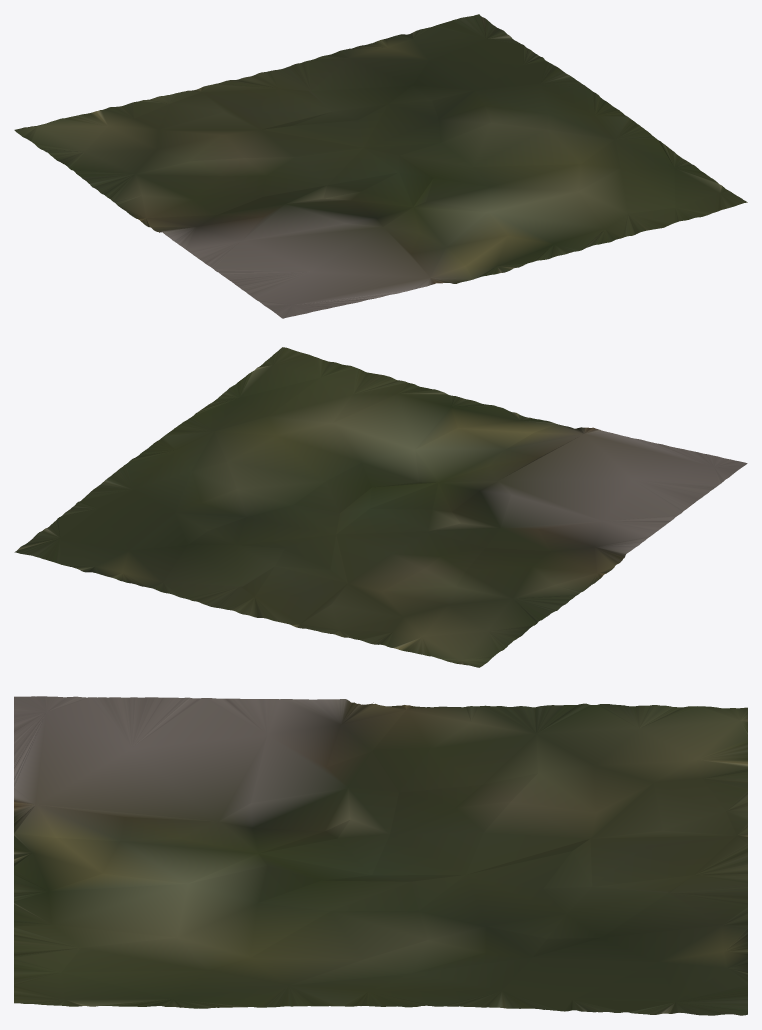
Rendered from coarse.glb.
3 views of the same model, one above another, from view 1: azimuth 30°, elevation 25°; view 2: azimuth 150°, elevation 25°; view 3: azimuth 270°, elevation 25° (orthographic). The views are drawn at different scales.
Bounding box in the file's own units: 3.6 × 0.1184 × 3.6.
